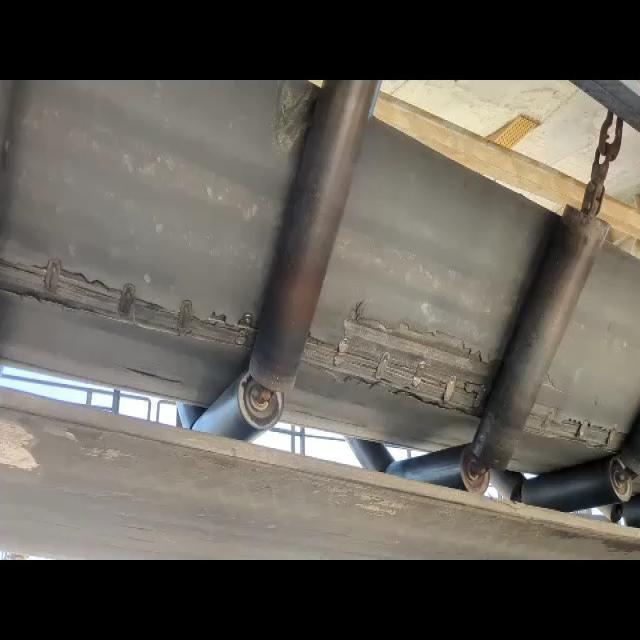Tear: (0, 238, 261, 358), (302, 284, 500, 416), (526, 387, 629, 460)
Wear: (266, 88, 314, 154)
